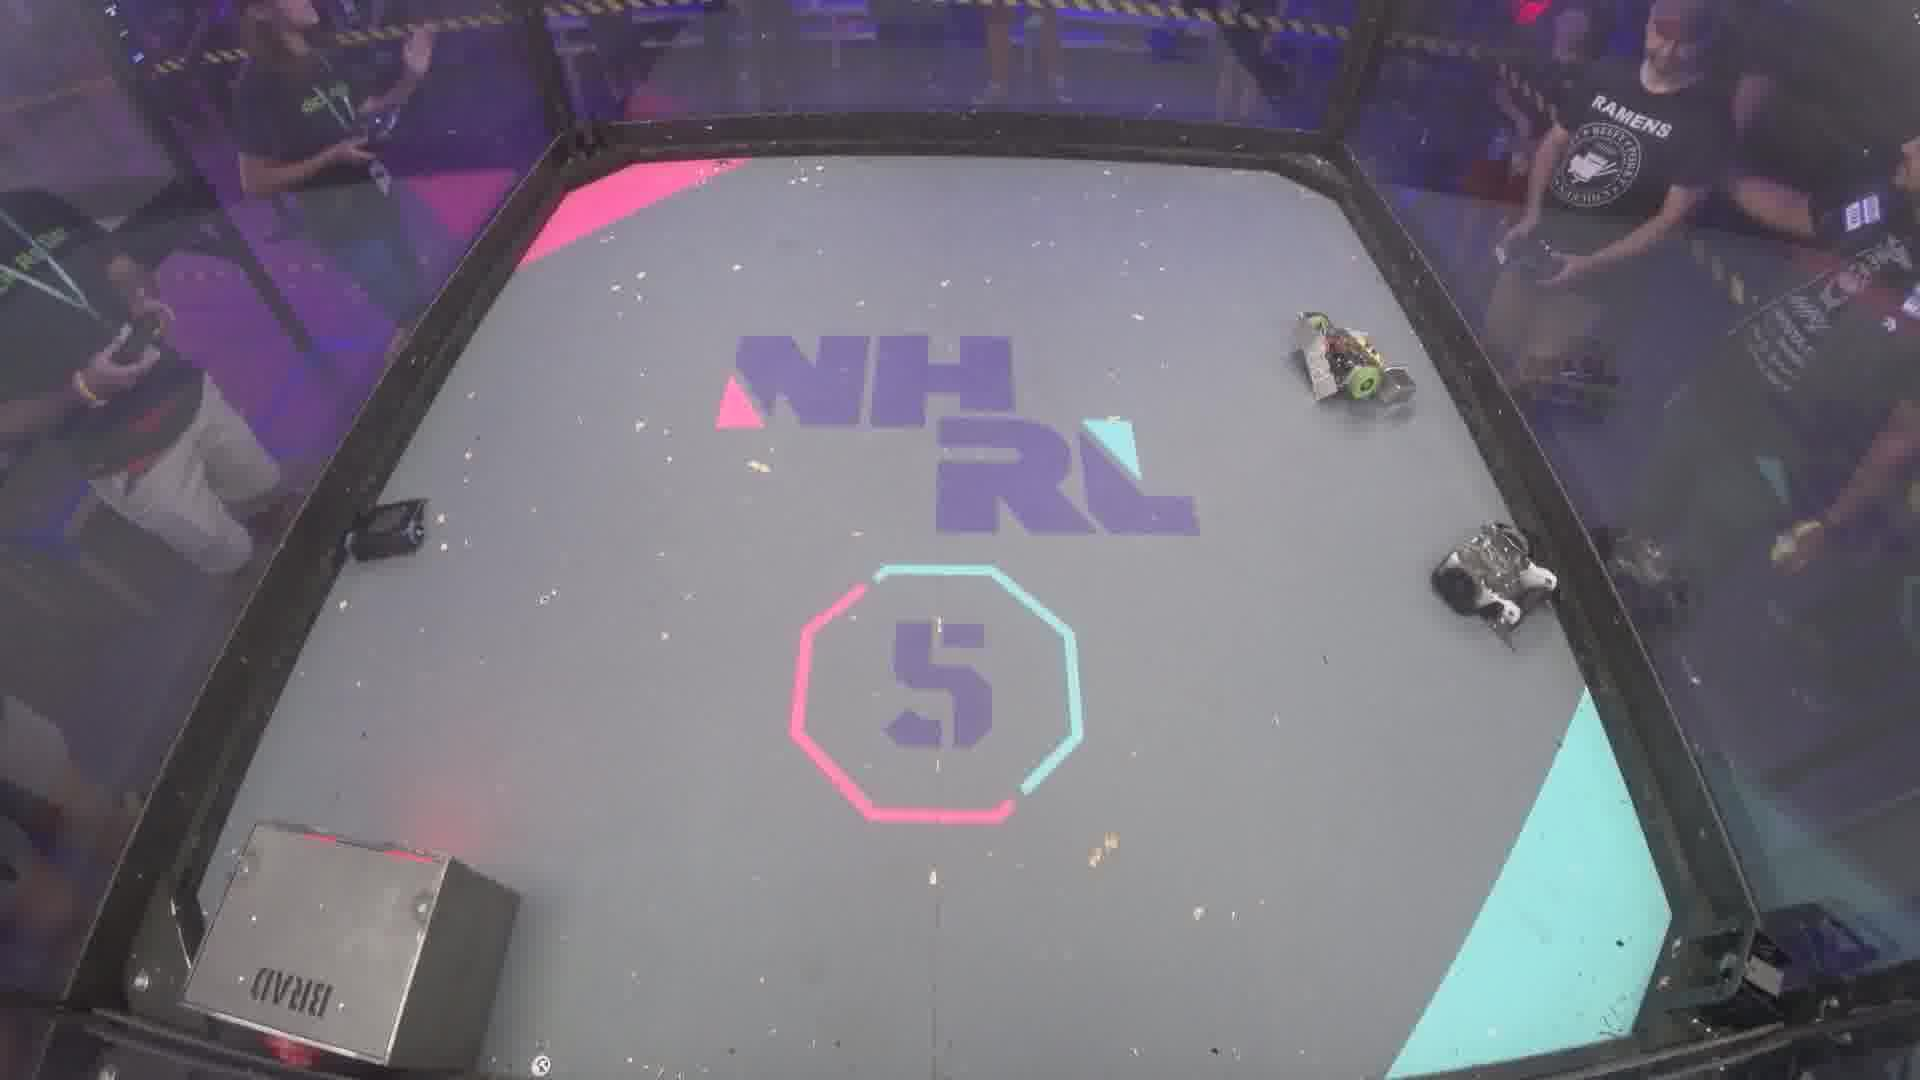combatbot: (1436, 525, 1560, 625), (1298, 313, 1407, 413)
housebot: (186, 818, 521, 1068)
minibot: (347, 497, 433, 551)
